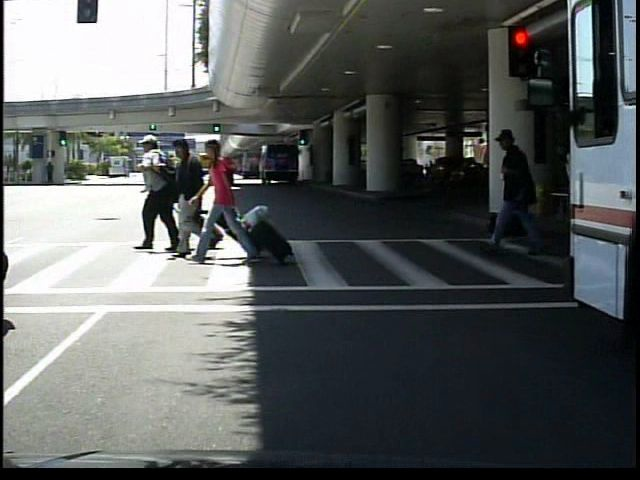person: (485, 119, 557, 257)
